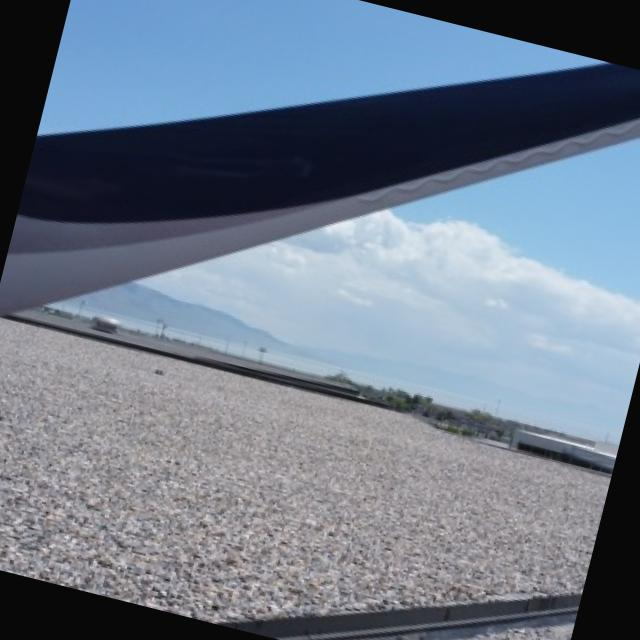healthy: (0, 63, 640, 310)
